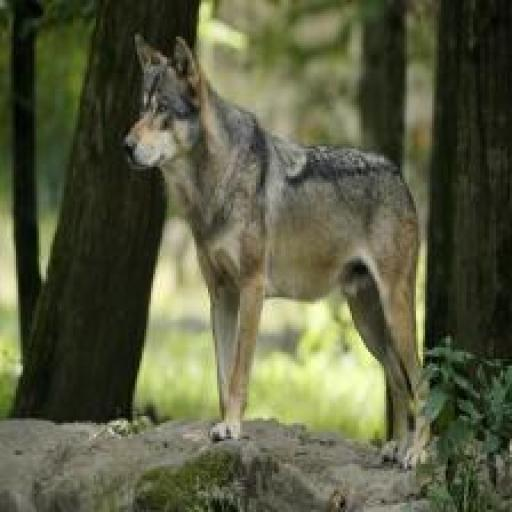wolf: (107, 12, 446, 492)
